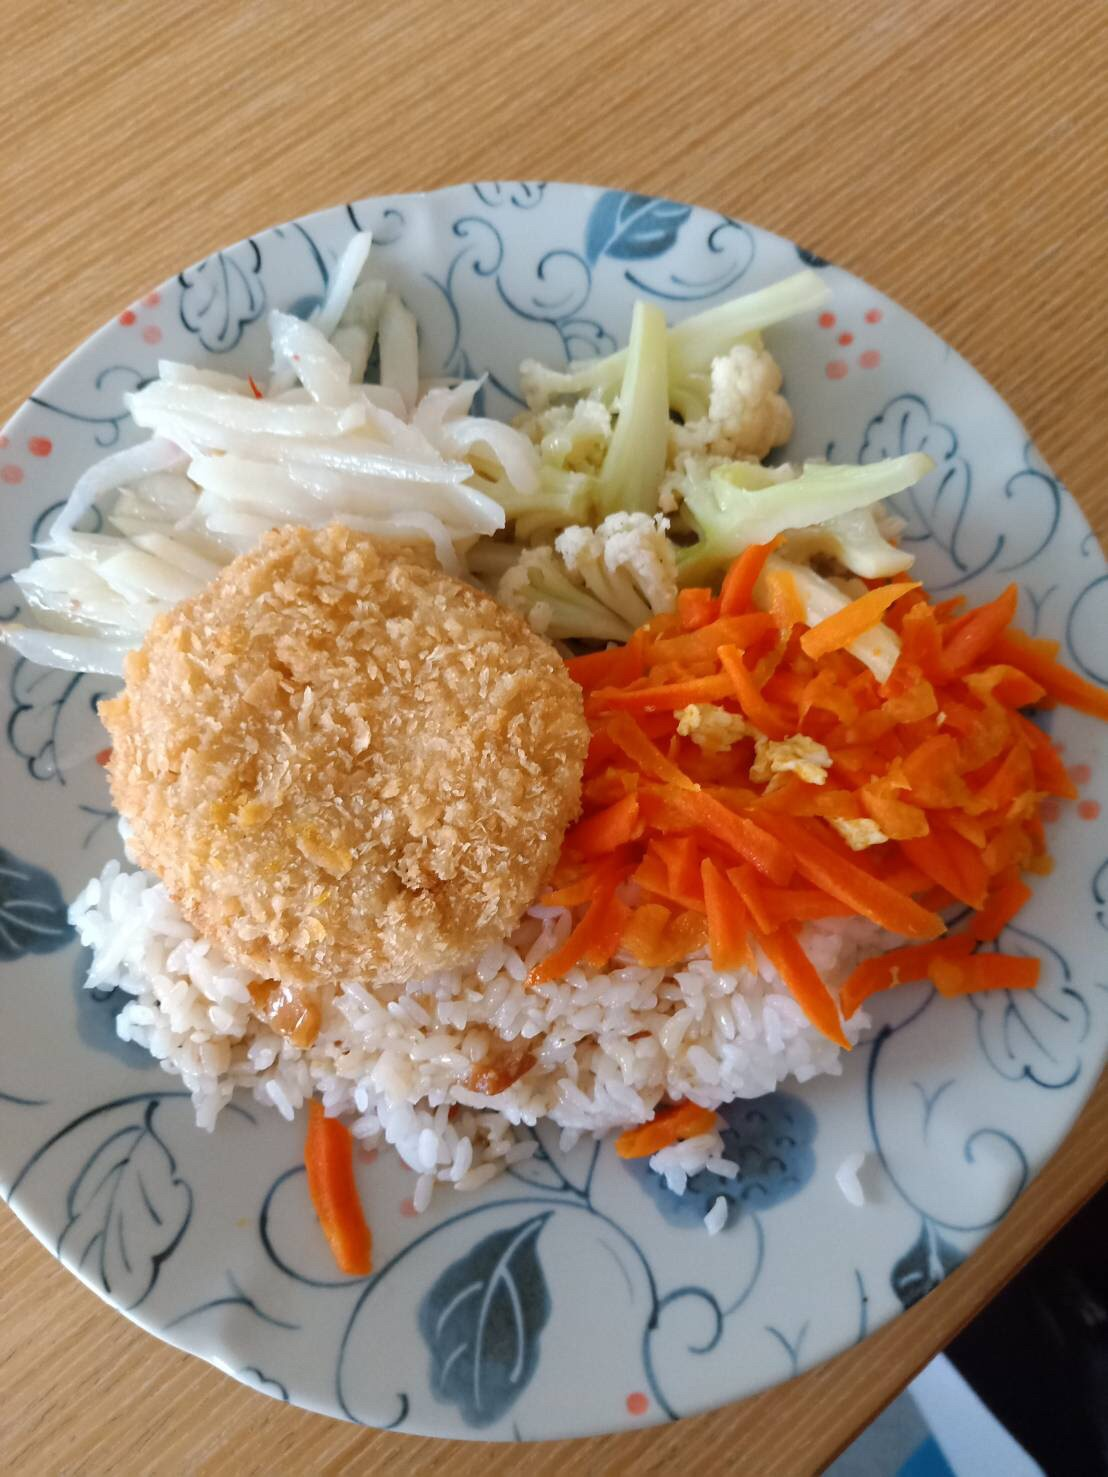carrot_eggs: (584, 580, 1036, 1000)
fried_chicken: (100, 521, 585, 968)
rice: (175, 975, 786, 1142)
